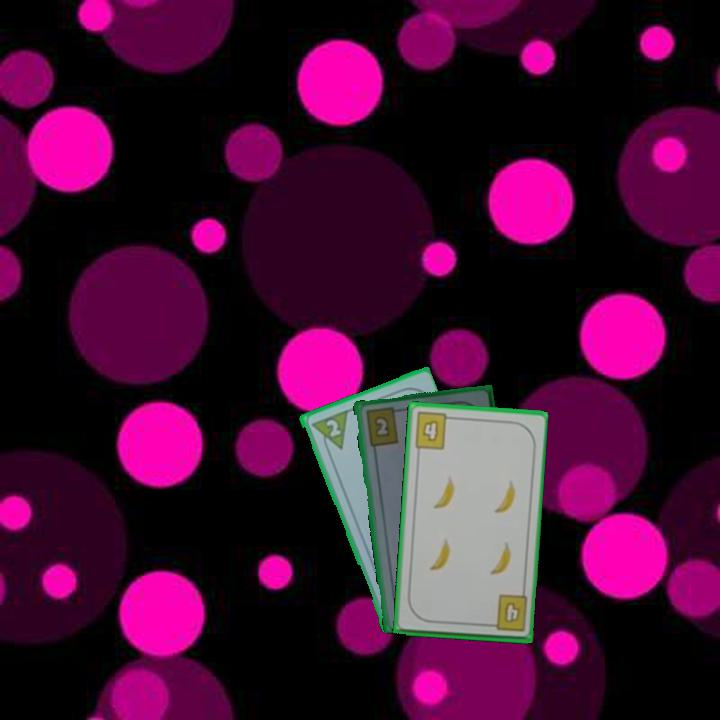2b: (362, 403, 403, 449)
2p: (322, 416, 343, 440)
4b: (484, 591, 530, 635), (411, 409, 456, 452)
